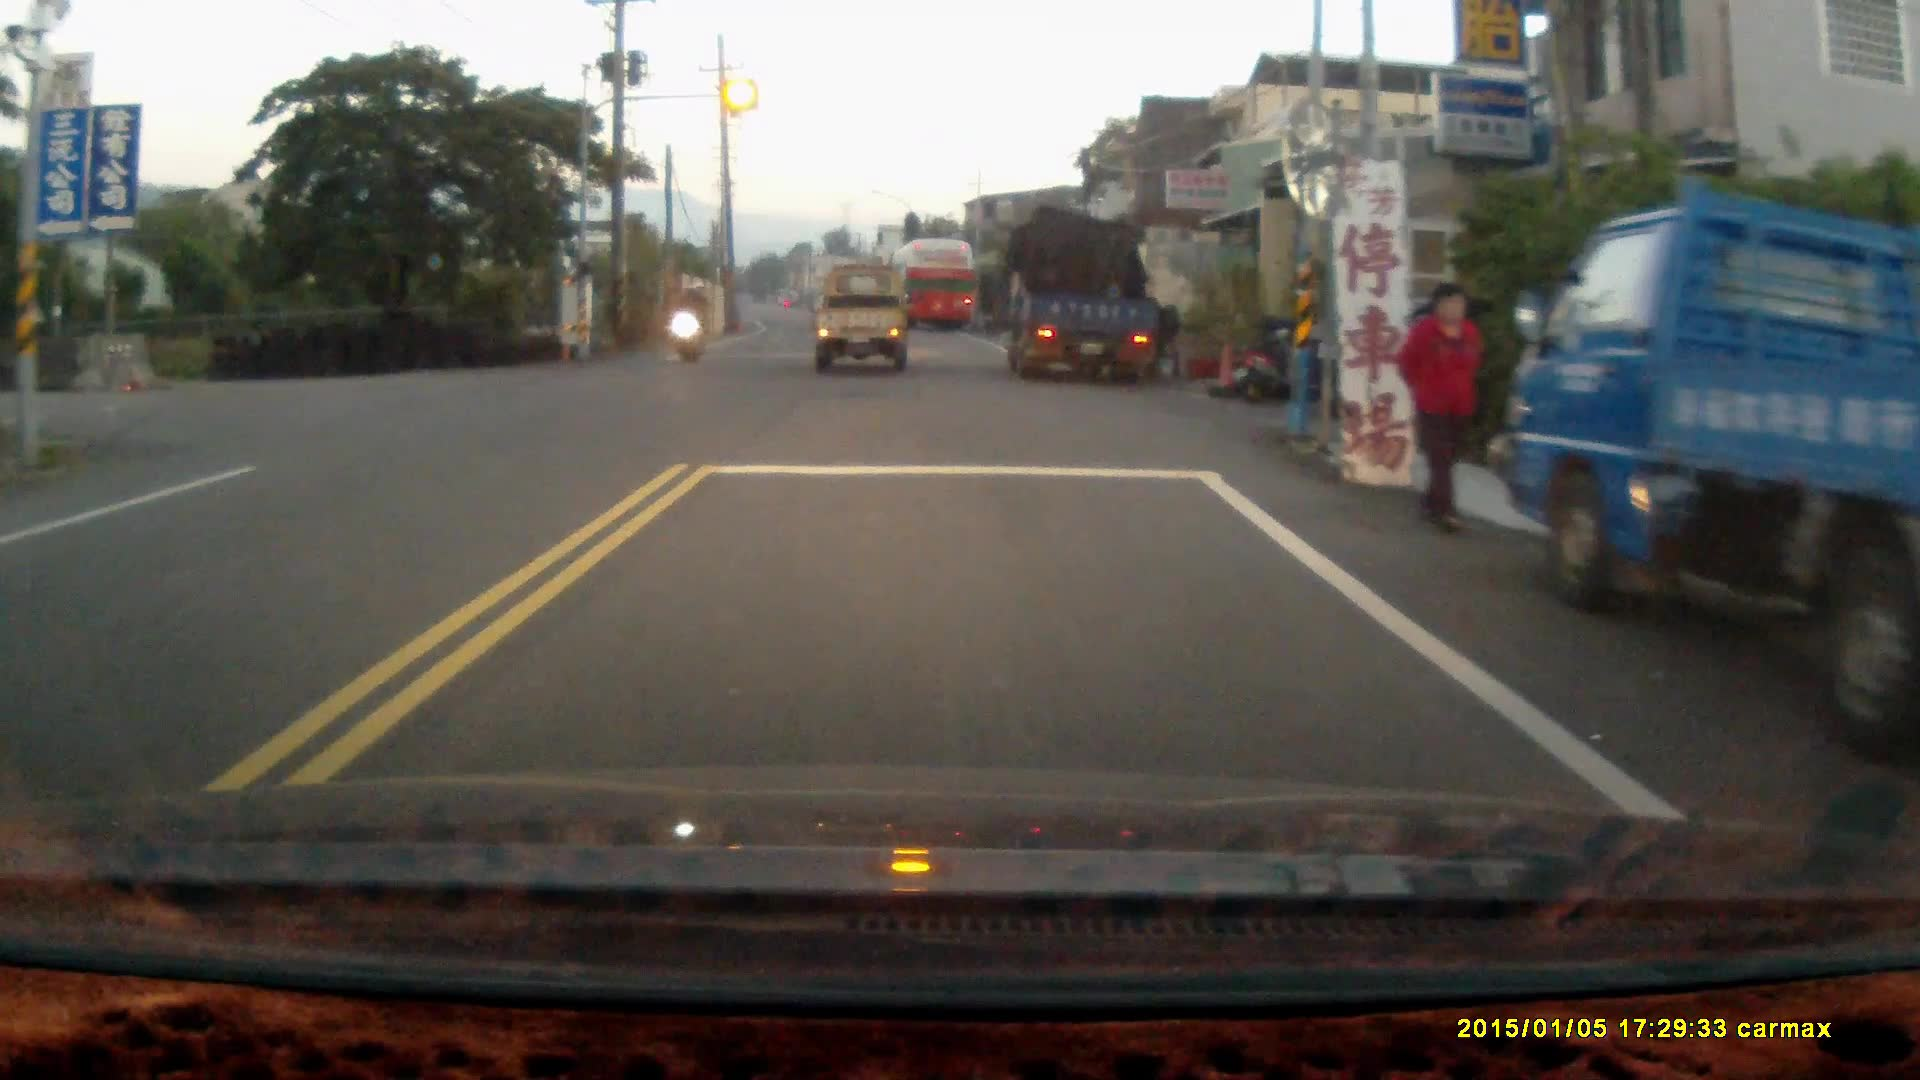pedestrian: (1399, 279, 1483, 535)
rider: (670, 281, 707, 363)
vehicle: (1503, 185, 1918, 774), (996, 205, 1169, 387), (810, 264, 907, 373), (886, 238, 974, 329)
